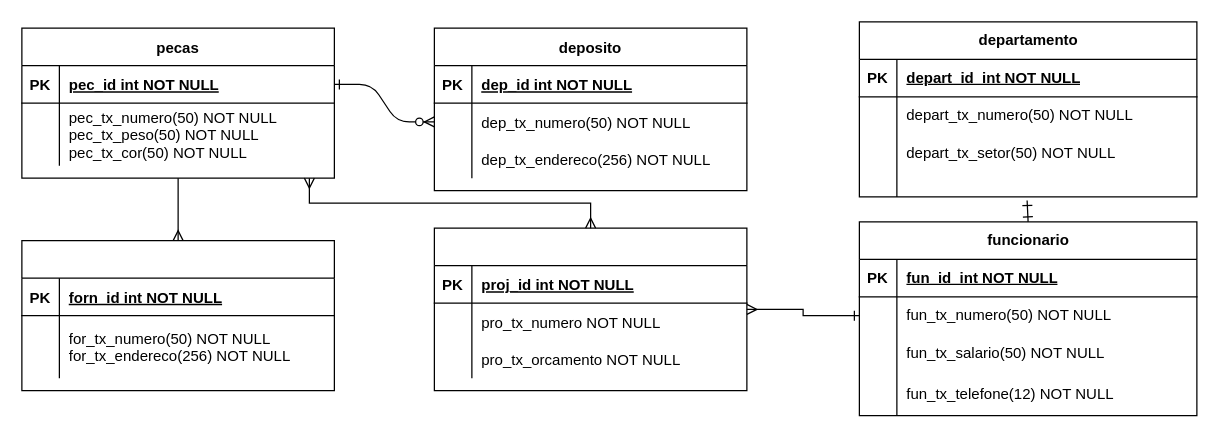
The diagram is 1219 pixels wide and 438 high, and some of its shapes have lost their labels. Each missing label, with the box of its shape:
fornecedor: (21, 239, 334, 391)
projeto: (433, 227, 747, 391)
